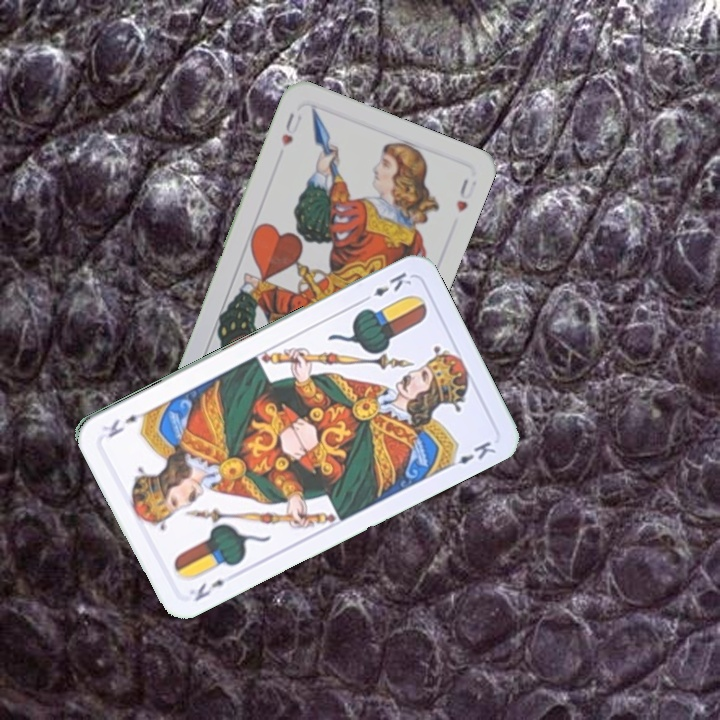EK: (357, 268, 414, 306), (190, 572, 238, 604)
HU: (277, 108, 305, 148)
